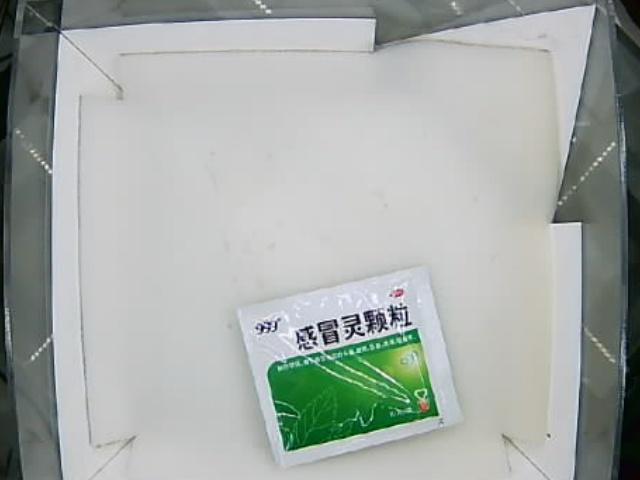Medicine: (231, 263, 464, 467)
